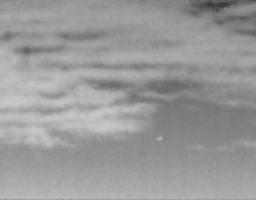Target: (158, 137, 161, 139)
